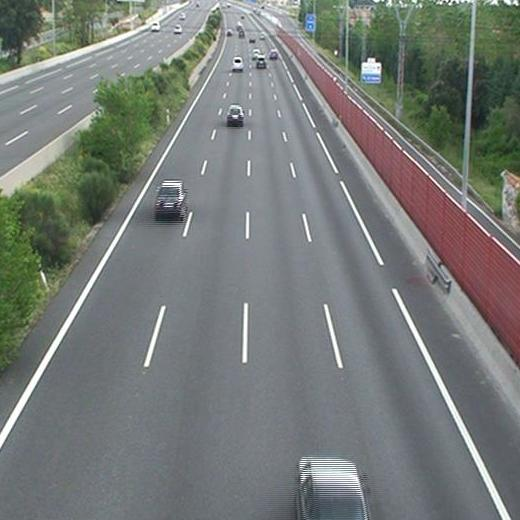car: (156, 180, 185, 213), (226, 106, 244, 123), (231, 58, 243, 69), (256, 56, 266, 66), (269, 50, 276, 59)
